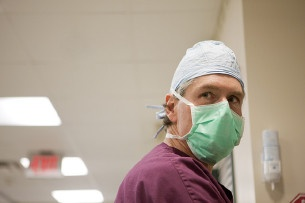Mask: (179, 84, 254, 159)
